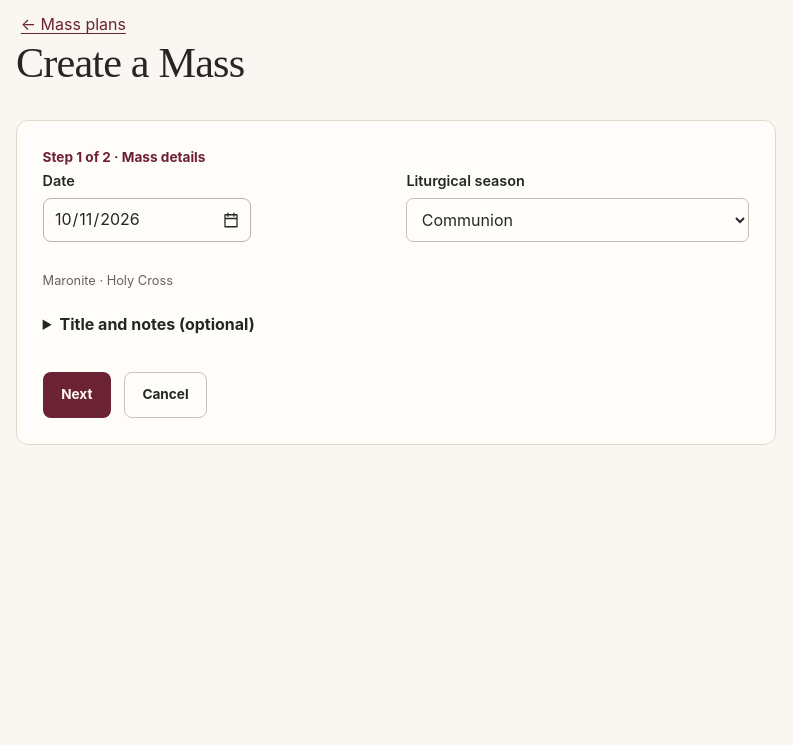
Test: blocks creation when the same-date lookup fails and preserves details for retry
Expected: the button "Next" is enabled, [43,372,111,418]
Click the heading "Title and notes (optional)" at (157, 324), box [60,314,255,334]
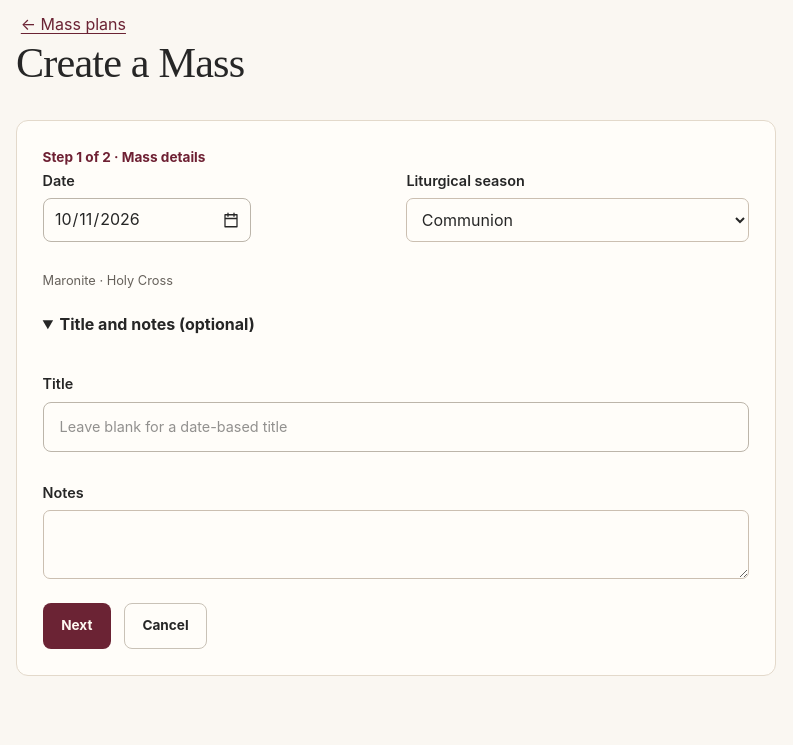
Type "Choir Mass" into the field labelled "Title" at (396, 427), box [43,402,749,452]
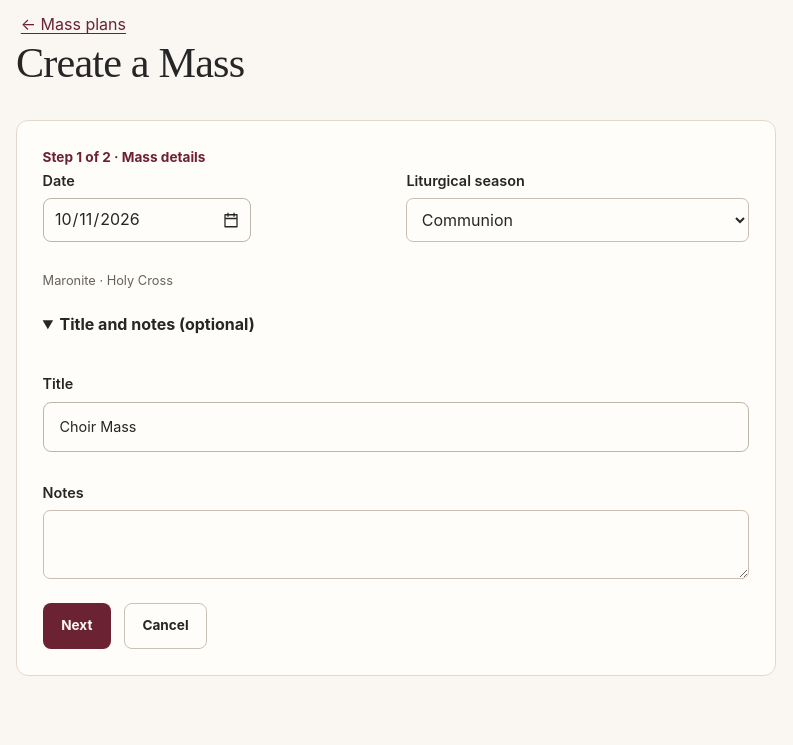
Click the button "Next" at (77, 626), box [43,603,111,649]
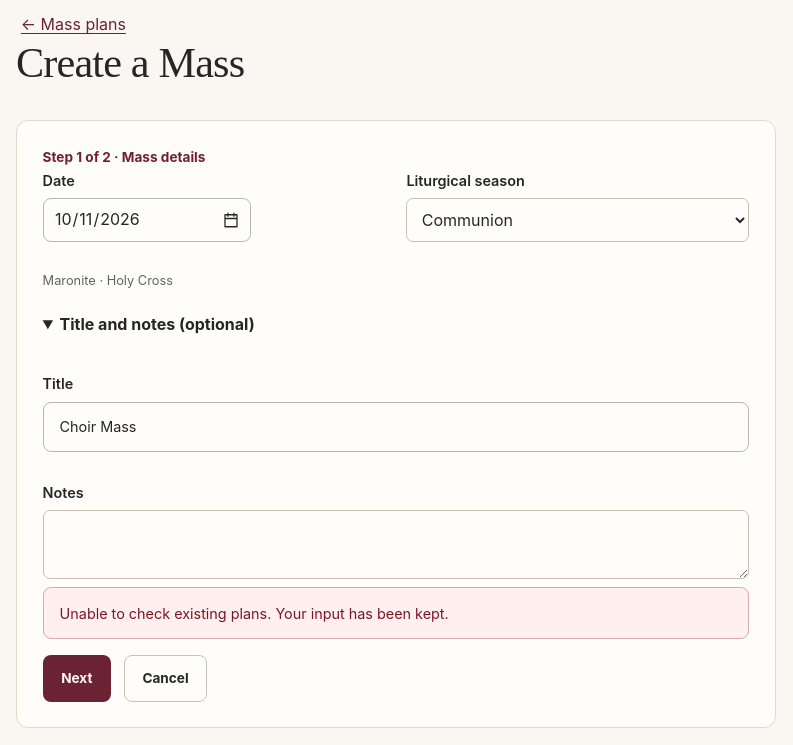
Expected: the message "Unable to check existing plans. Your input has been kept." is shown, [43,587,749,639]
